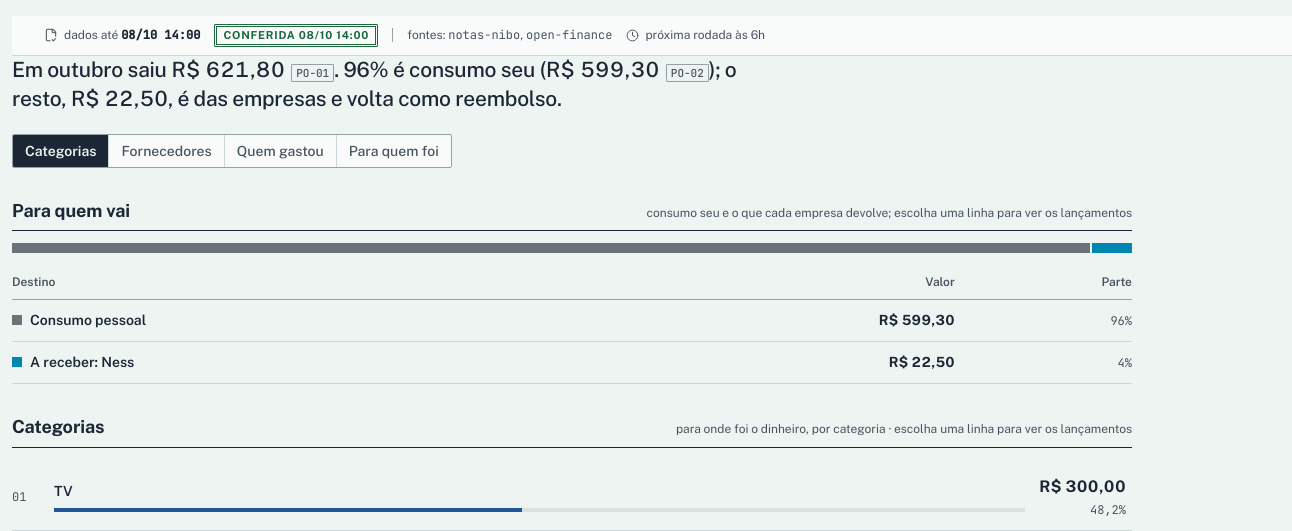
Test case: ParaOndeVai no celular também abre em Categorias e troca para Fornecedores
The width and height of the screenshot is (1292, 531).
(page scrolled)
Click the button "Fornecedores" at (166, 151), box [108,135,224,167]
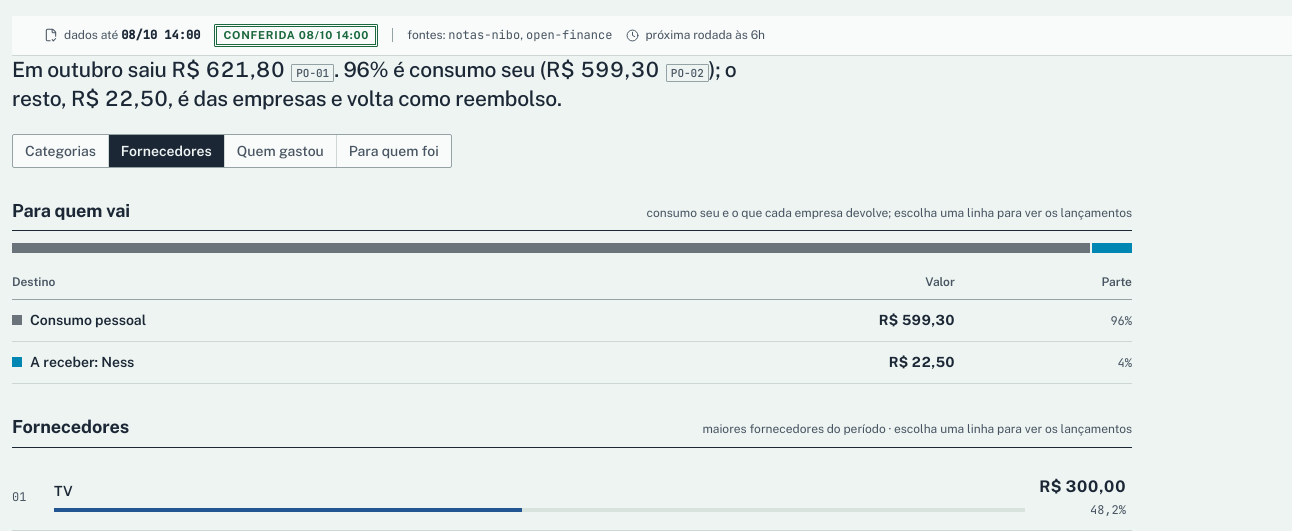
Expected: the text "maiores fornecedores do período" is shown, [702,422,886,436]
